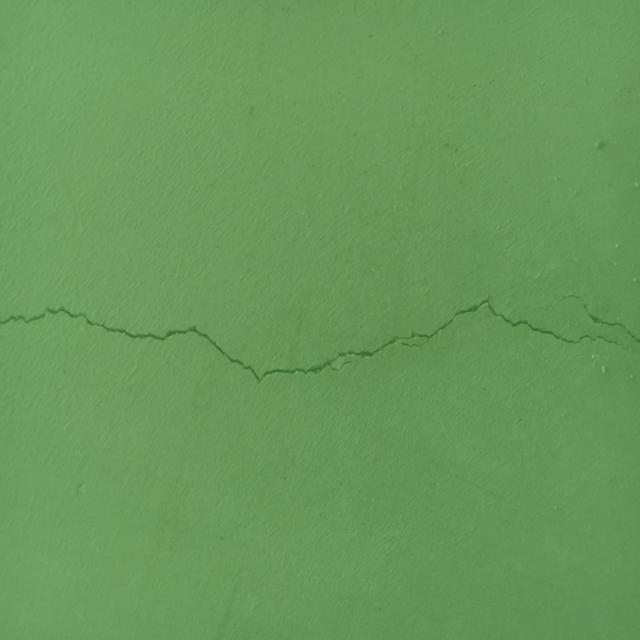crack: (0, 296, 635, 384), (537, 292, 640, 344)
